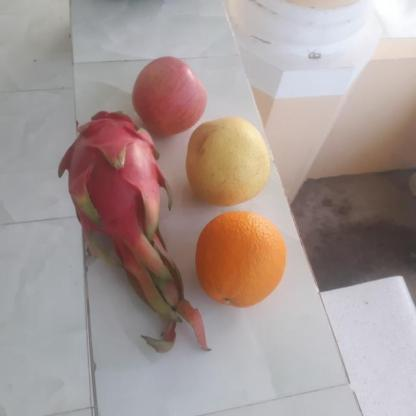apple: (128, 52, 209, 136)
orange: (191, 208, 289, 306)
pear: (181, 117, 273, 205)
pitaya: (52, 110, 168, 253)
